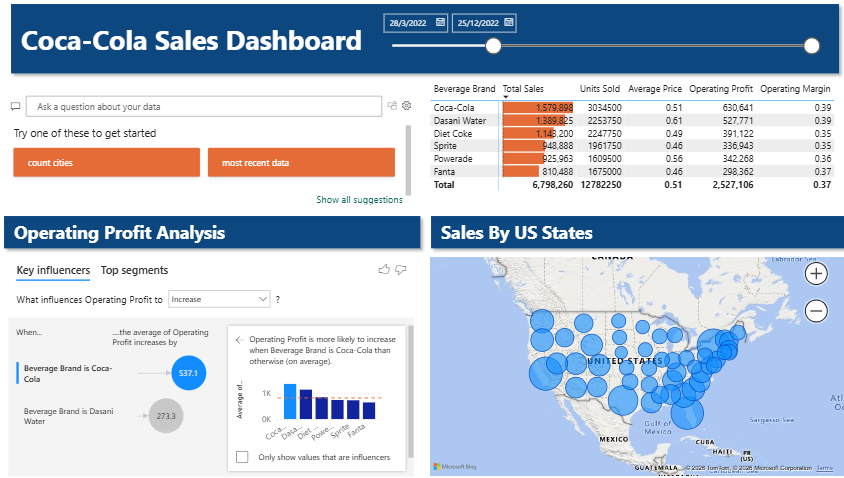

What the dashboard file says about the page in this screenshot:
{"tool":"powerbi","page":{"name":"Page 1","canvas":[1280,720],"ordinal":0},"visuals":[{"type":"shape","box":[10.8,0,1253.8,121.5],"z":0},{"type":"shape","box":[0,316.8,639.4,66.2],"z":1000},{"type":"shape","box":[637.9,316.8,639.4,66.2],"z":2000},{"type":"keyDriversVisual","fields":{"Target":["Data.Operating Profit"],"ExplainBy":["Data.Beverage Brand"]},"box":[10.4,382.1,614.9,337.3],"z":3000},{"type":"qnaVisual","box":[10.4,120.9,614.9,195.5],"z":4000},{"type":"map","fields":{"Category":["Data.State"],"Size":["Sum(Data.Total Sales)"]},"box":[640.3,382.1,635.8,337.3],"z":5000},{"type":"pivotTable","fields":{"Rows":["Data.Beverage Brand"],"Values":["Sum(Data.Total Sales)","Sum(Data.Units Sold)","Avg(Data.Price per Unit)","Sum(Data.Operating Profit)","Avg(Data.Operating Margin)"]},"box":[640.3,120.9,623.9,195.5],"z":6000},{"type":"slicer","fields":{"Values":["Data.Invoice Date"]},"box":[562.7,13.4,673.1,95.5],"z":7000}]}

Visuals, with their boxes in screenshot pixels (x1, y1, x2, y2), scaled from the page's 1280x720 canvas onto the 844x478 screenshot:
shape: locate(7, 0, 834, 81)
shape: locate(0, 210, 422, 254)
shape: locate(421, 210, 842, 254)
keyDriversVisual - Data.Operating Profit x Data.Beverage Brand: locate(7, 254, 412, 477)
qnaVisual: locate(7, 80, 412, 210)
map - Data.State x Sum(Data.Total Sales): locate(422, 254, 841, 477)
pivotTable - Data.Beverage Brand x Sum(Data.Total Sales): locate(422, 80, 834, 210)
slicer - Data.Invoice Date: locate(371, 9, 815, 72)
